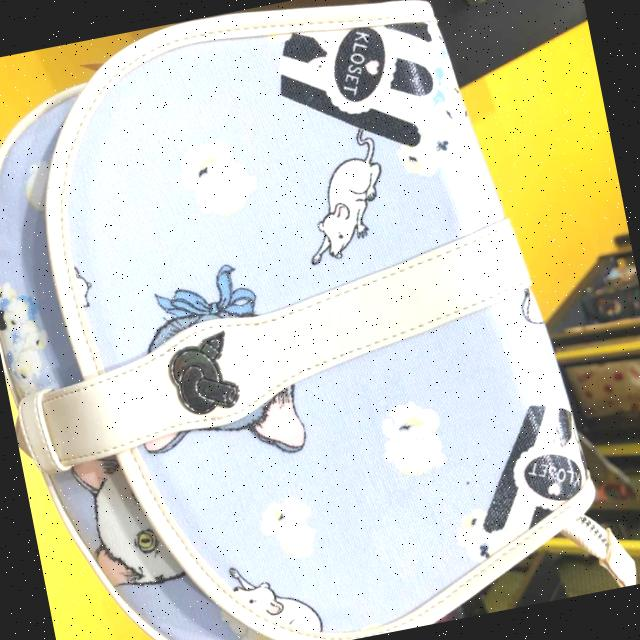Handbag: (0, 0, 609, 640)
